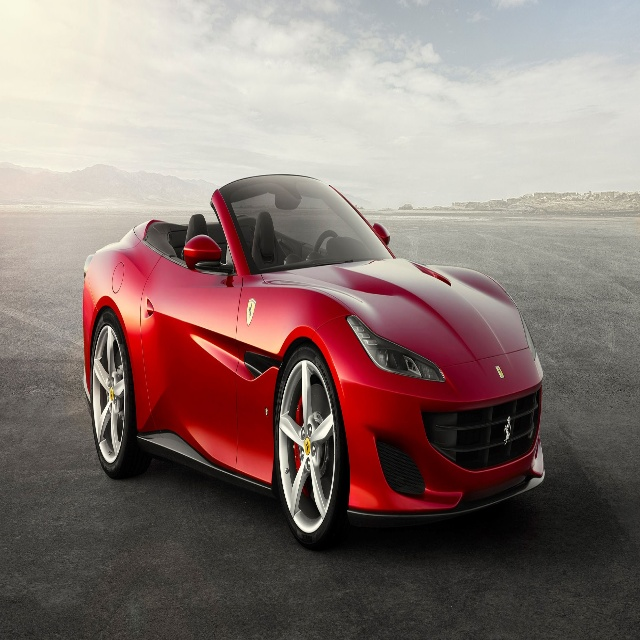Car: (83, 175, 545, 551)
